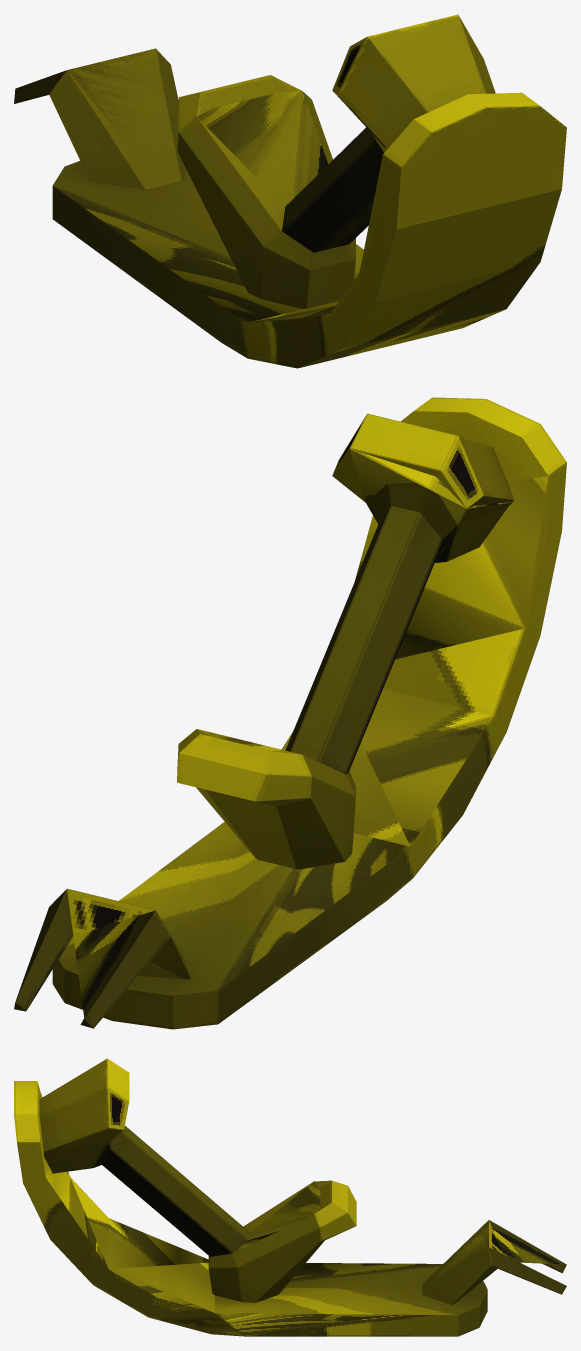
Rendered from item_skishoe_4.glb.
3 renders of one model, top to bottom at view 1: azimuth 30°, elevation 25°; view 2: azimuth 150°, elevation 25°; view 3: azimuth 270°, elevation 25°, orthographic. The views are drawn at different scales.
Parts seen in each view (by area): view 1: SkiShoe; view 2: SkiShoe; view 3: SkiShoe.
Part boxes in pixels (x1,y1,x2,y2): SkiShoe: (14, 14, 566, 368); SkiShoe: (14, 397, 566, 1029); SkiShoe: (14, 1058, 566, 1336).
Size of the model in its own units: 0.1051 by 0.2285 by 0.4804.
Materials: 1 (1 with a texture image).
